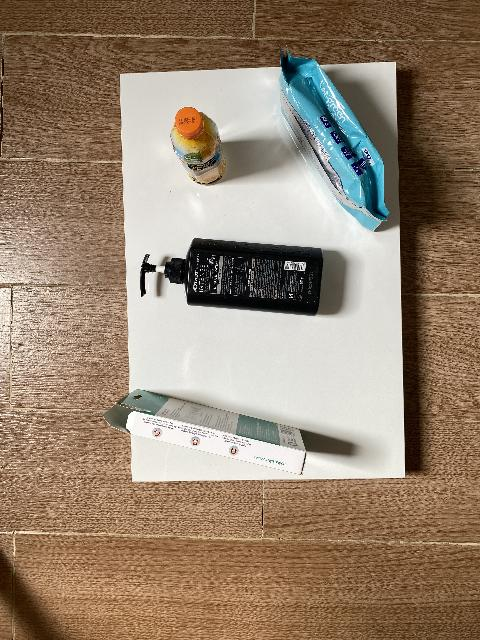4D_medical_face-mask: (102, 390, 307, 476)
Let-green_alcohol_wipes: (278, 43, 391, 232)
X-men: (140, 238, 324, 316)
teppy_orange_juice: (170, 107, 226, 185)
